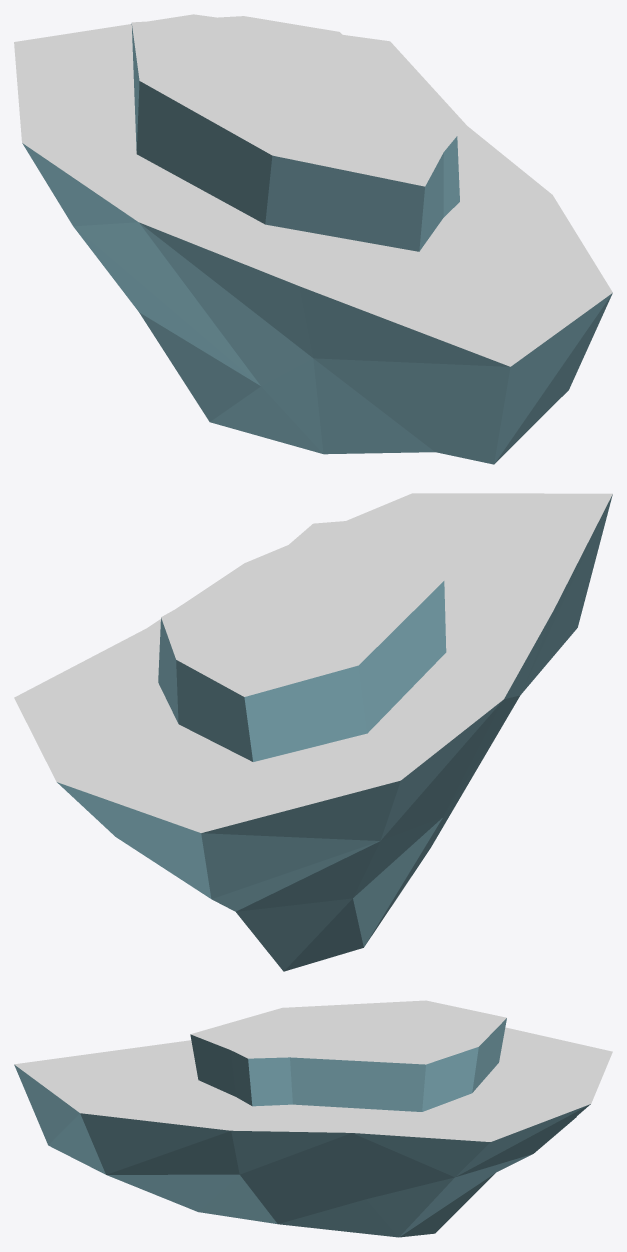
File: floe_02.fbx
3 views of the same model, one above another, from view 1: azimuth 30°, elevation 25°; view 2: azimuth 150°, elevation 25°; view 3: azimuth 270°, elevation 25° (orthographic). The views are drawn at different scales.
Parts seen in each view (by area): view 1: floe_02; view 2: floe_02; view 3: floe_02.
Part boxes in pixels (x1=…): floe_02: x1=14, y1=14, x2=612, y2=464; floe_02: x1=14, y1=493, x2=612, y2=971; floe_02: x1=14, y1=1000, x2=612, y2=1237.
Size of the model in its own units: 296 by 240 by 617.
